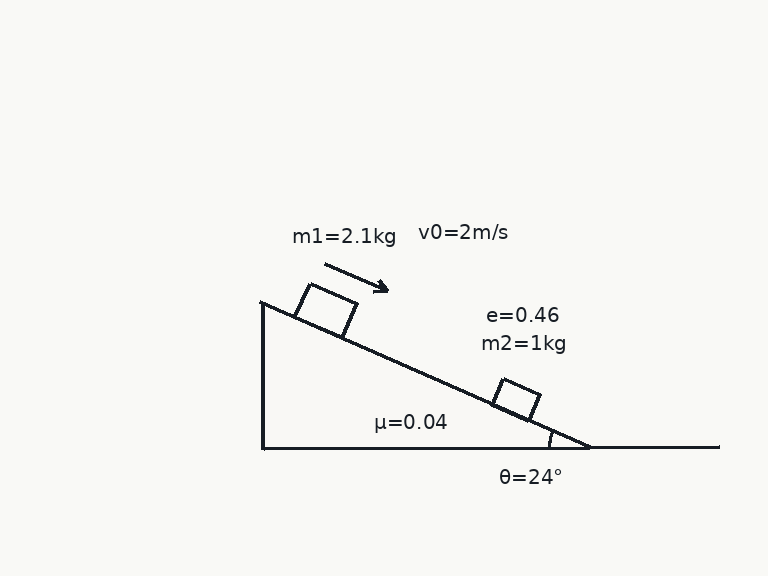block: (293, 281, 358, 340), (490, 376, 541, 423)
ramp: (260, 300, 591, 450)
